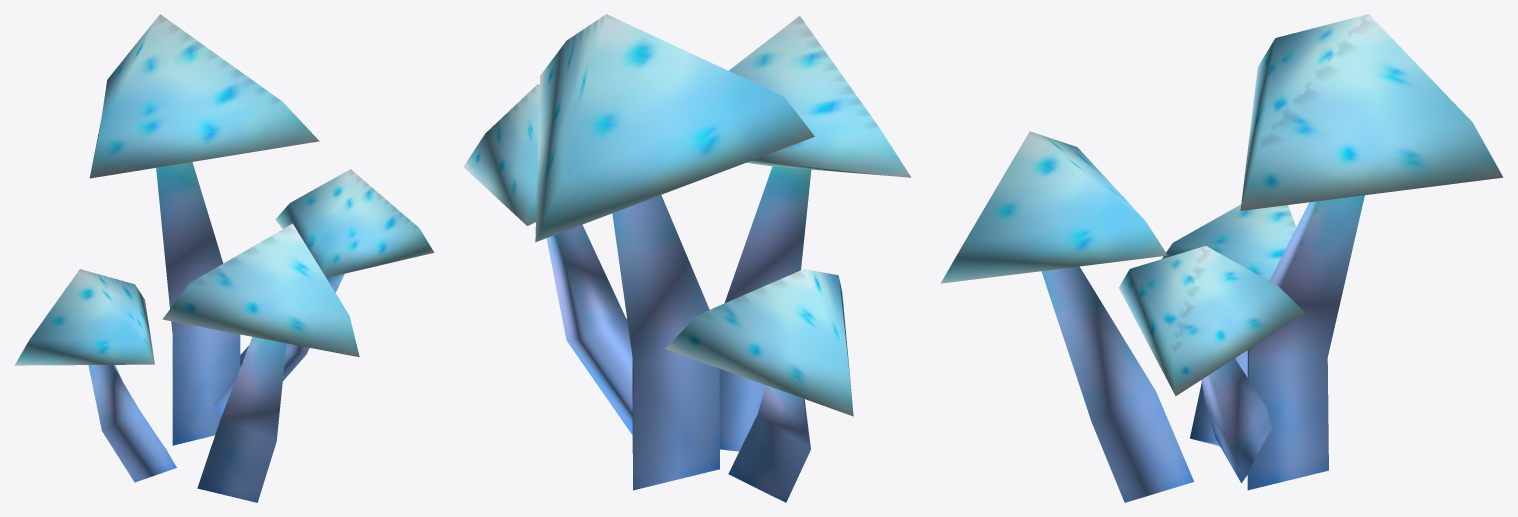
Rendered from mush1.fbx.
3 views of the same model, side by side, from view 1: azimuth 30°, elevation 25°; view 2: azimuth 150°, elevation 25°; view 3: azimuth 270°, elevation 25° (orthographic). The views are drawn at different scales.
Visible parts, largest first — view 1: Mushrooms01; view 2: Mushrooms01; view 3: Mushrooms01.
Boxes of the visible parts, left/top/right/bottom form: Mushrooms01: left=14, top=14, right=434, bottom=502; Mushrooms01: left=463, top=14, right=911, bottom=502; Mushrooms01: left=940, top=14, right=1503, bottom=502.
Bounding box in the file's own units: 51.26 × 55.67 × 57.76.
1 material, 1 textured.
